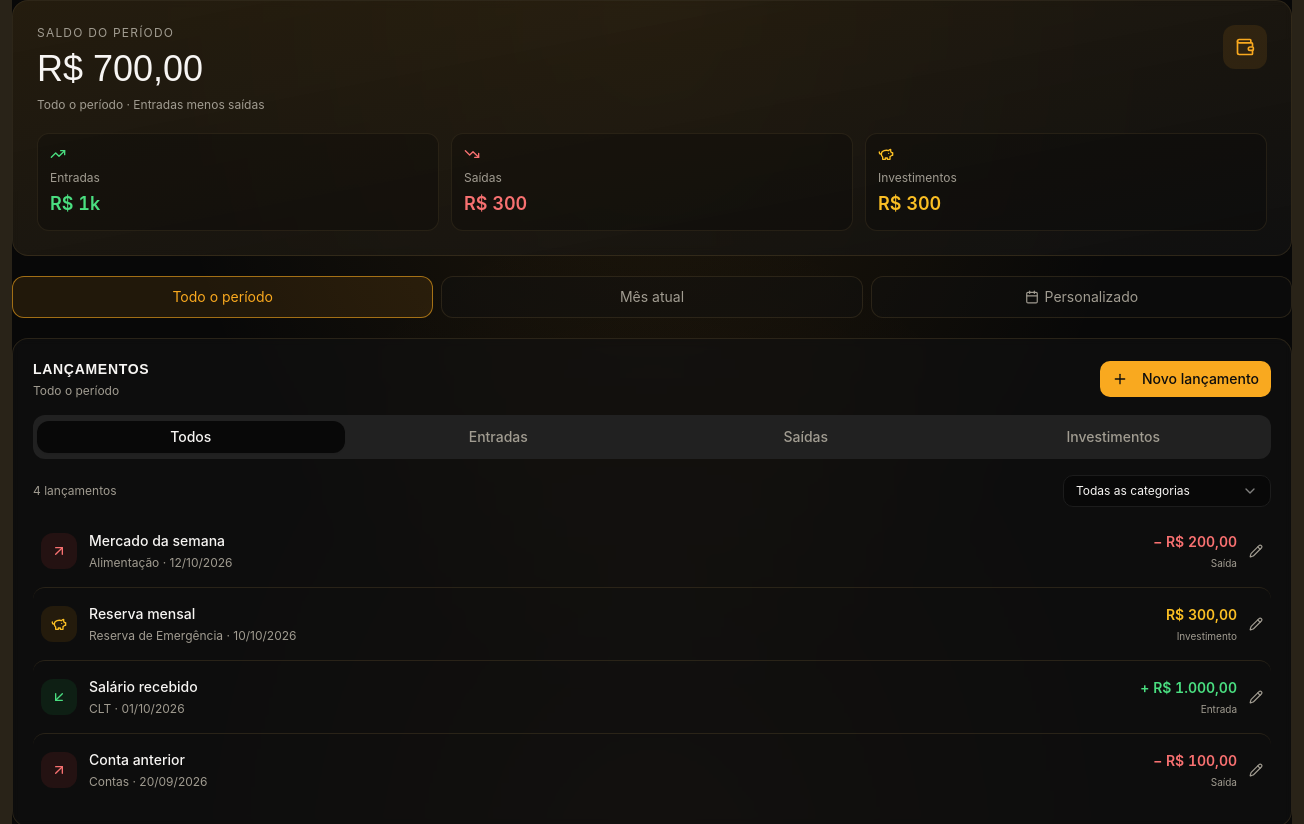
Test case: finance overview and unified transactions › shows all records by default and filters one list without changing the period summary
Expected: the text "R$ 700,00" is shown, [37,48,203,89]
Expected: the text "Conta anterior" is shown, [89,751,185,768]
Press the mouse on the tab "Entradas" at (498, 437), box [344,421,652,453]
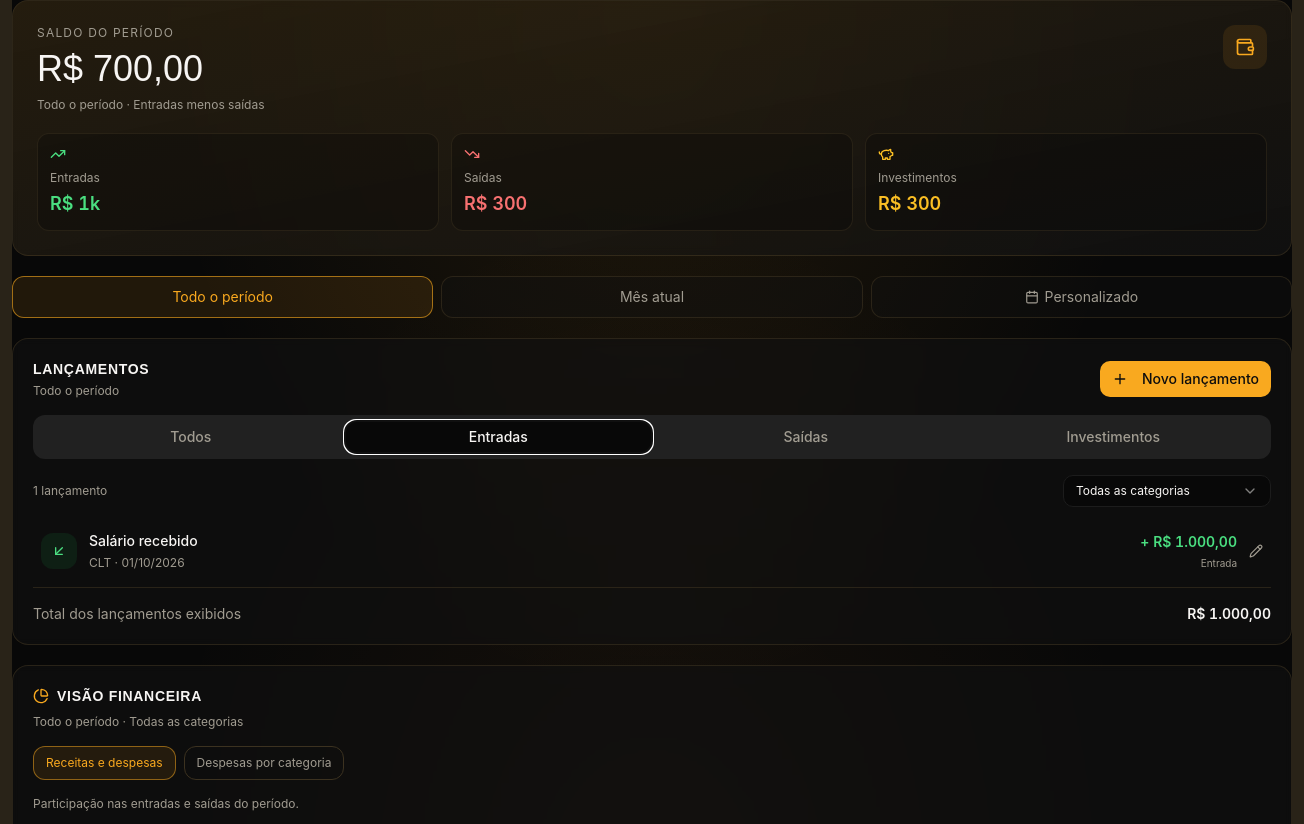
Expected: the text "Salário recebido" is shown, [89,532,198,549]
Expected: the button "Mercado da semana" is gone
Click the button "Mês atual".
click(652, 297)  # box [441,276,863,318]
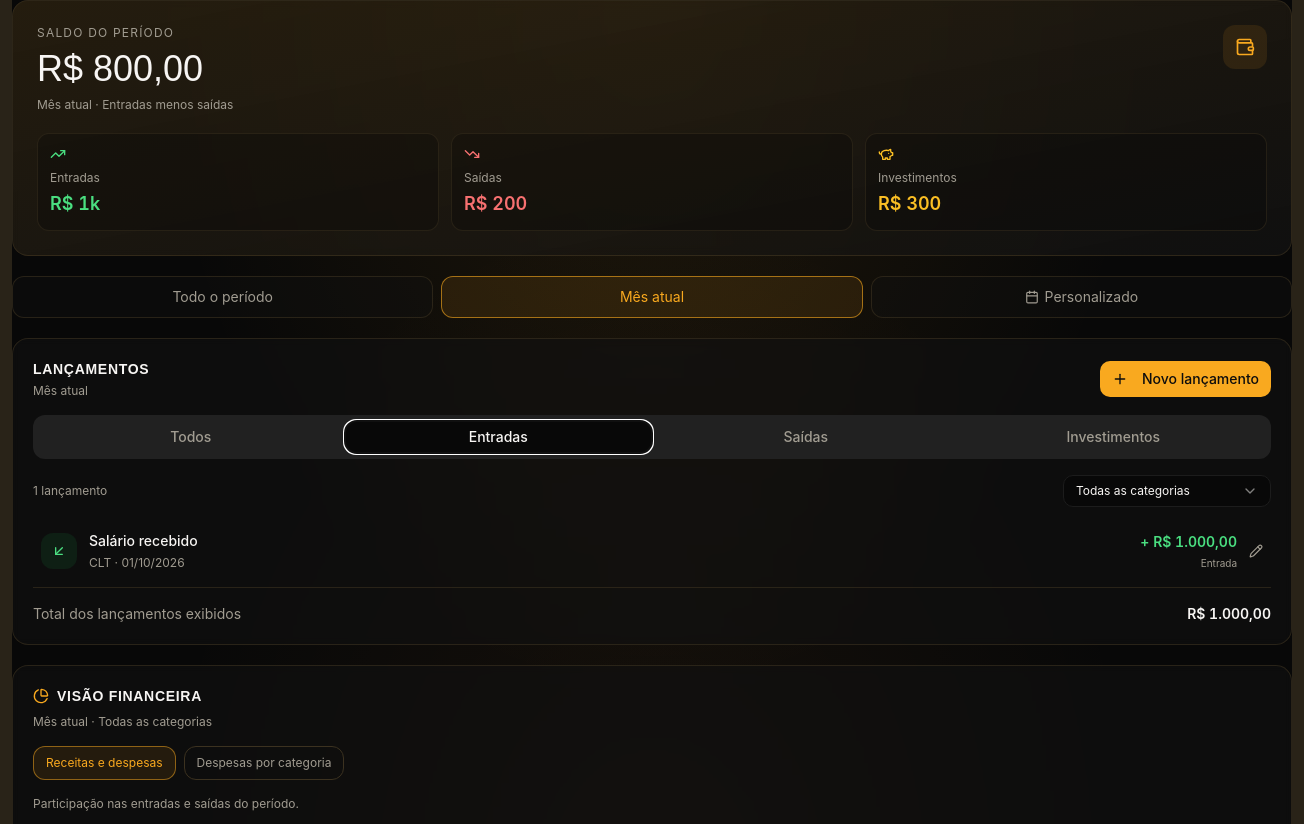
Expected: the text "R$ 800,00" is shown, [37,48,203,89]
Press the mouse on the tab "Todos" at (191, 437), box [37,421,344,453]
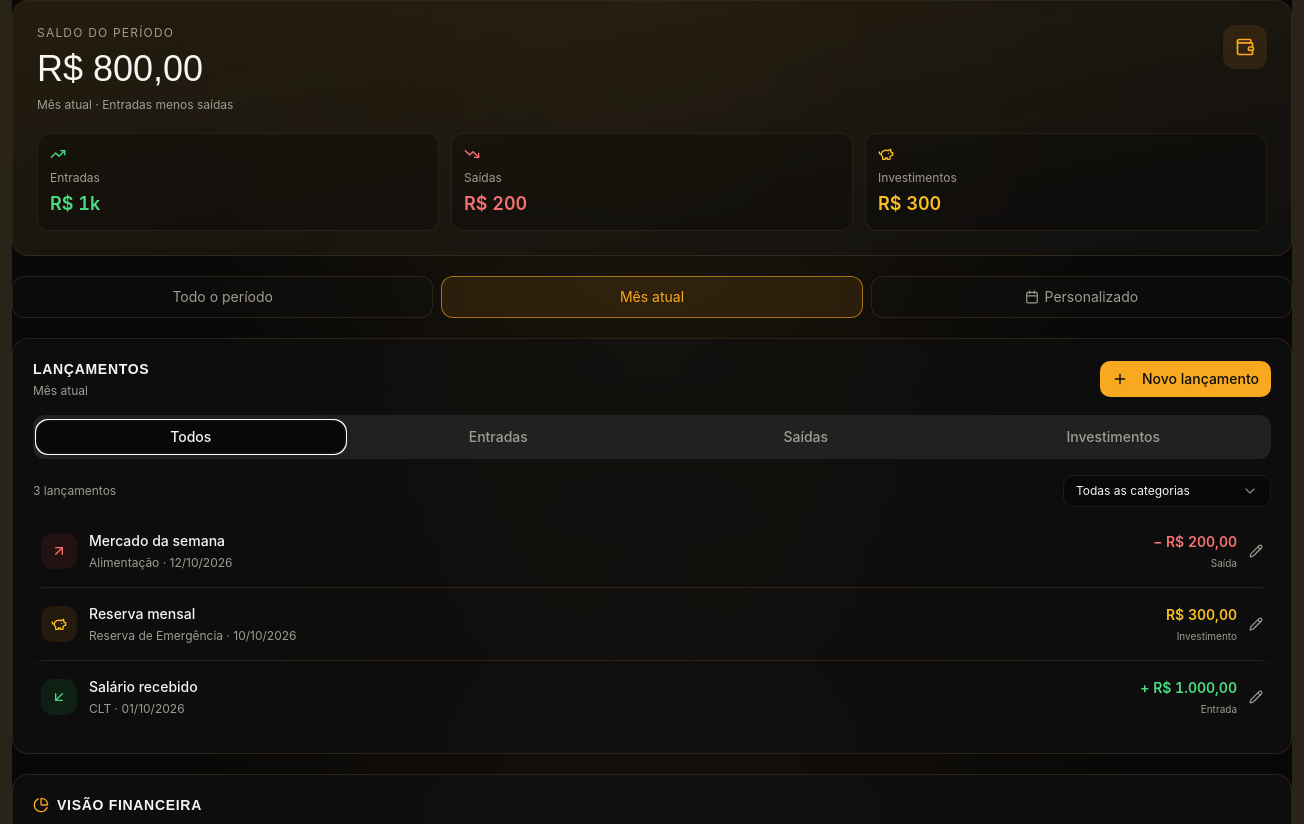
Expected: the button "Conta anterior" is not shown
Expected: the text "Mercado da semana" is shown, [89,532,225,549]
